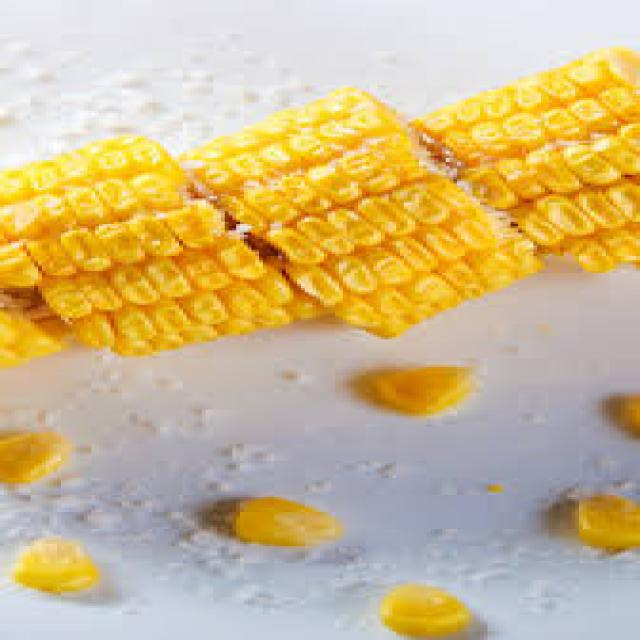corn: (174, 80, 546, 350), (0, 130, 347, 359), (417, 25, 640, 298), (203, 477, 366, 559), (335, 356, 490, 424), (0, 524, 124, 608), (352, 574, 485, 640), (549, 477, 640, 567), (0, 410, 84, 495), (572, 389, 640, 433)
